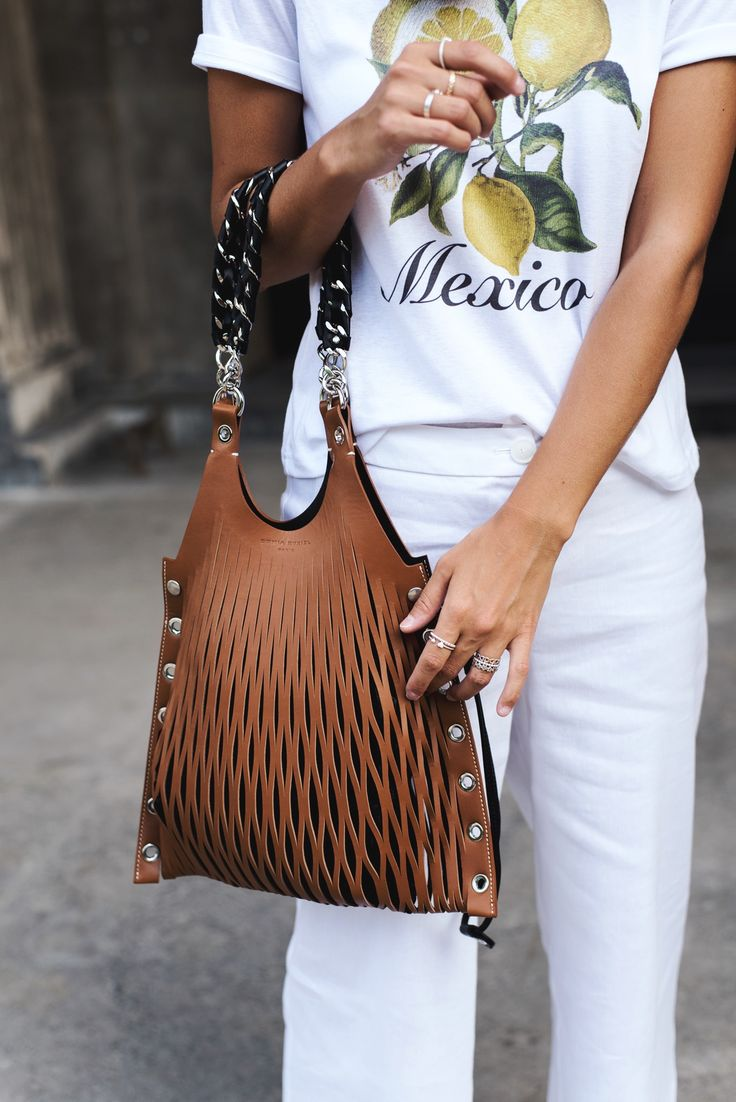cuero: (134, 404, 502, 916)
